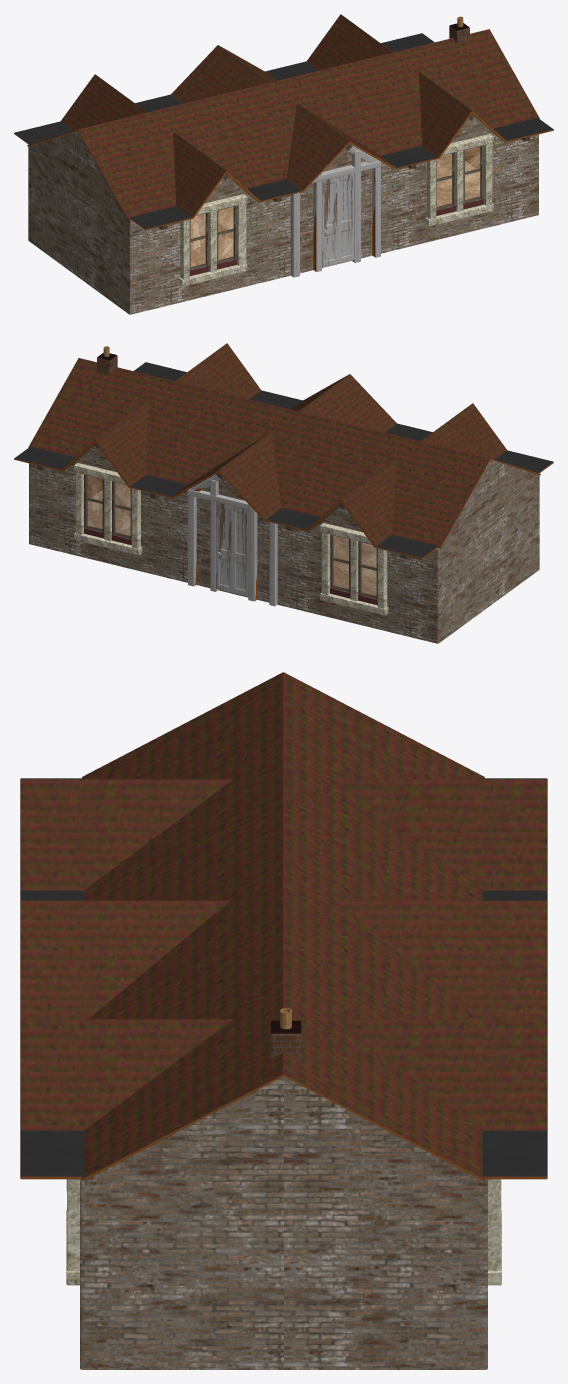
Rendered from abandoned_cottage.fbx.
3 views of the same model, one above another, from view 1: azimuth 30°, elevation 25°; view 2: azimuth 150°, elevation 25°; view 3: azimuth 270°, elevation 25° (orthographic). The views are drawn at different scales.
Parts seen in each view (by area): view 1: main_wall, main_roof, canopy_roof, polySurface8, polySurface1, polySurface6, polySurface4, polySurface7, polySurface17, polySurface29, polySurface21, polySurface27 (+7 smaller); view 2: main_wall, main_roof, canopy_roof, polySurface68, polySurface66, polySurface61, polySurface67, polySurface64, polySurface72, polySurface73, polySurface44, polySurface70 (+7 smaller); view 3: main_roof, canopy_roof, main_wall, polySurface47, polySurface29, pCube1.
Boxes of the visible parts, x1=… form: main_wall: x1=28, y1=118, x2=538, y2=314; main_roof: x1=27, y1=29, x2=539, y2=219; canopy_roof: x1=14, y1=14, x2=553, y2=229; polySurface8: x1=322, y1=173, x2=354, y2=267; polySurface1: x1=290, y1=192, x2=299, y2=277; polySurface6: x1=351, y1=150, x2=360, y2=262; polySurface4: x1=313, y1=173, x2=321, y2=271; polySurface7: x1=372, y1=166, x2=380, y2=257; polySurface17: x1=236, y1=203, x2=246, y2=265; polySurface29: x1=483, y1=143, x2=492, y2=205; polySurface21: x1=179, y1=264, x2=247, y2=286; polySurface27: x1=425, y1=203, x2=493, y2=226; main_wall: x1=29, y1=446, x2=539, y2=643; main_roof: x1=28, y1=358, x2=540, y2=548; canopy_roof: x1=14, y1=343, x2=553, y2=558; polySurface68: x1=216, y1=502, x2=248, y2=596; polySurface66: x1=248, y1=504, x2=257, y2=601; polySurface61: x1=188, y1=495, x2=196, y2=586; polySurface67: x1=269, y1=522, x2=277, y2=606; polySurface64: x1=210, y1=479, x2=218, y2=591; polySurface72: x1=377, y1=548, x2=387, y2=608; polySurface73: x1=321, y1=532, x2=330, y2=594; polySurface44: x1=74, y1=532, x2=142, y2=555; polySurface70: x1=320, y1=593, x2=388, y2=615; main_roof: x1=82, y1=672, x2=484, y2=1180; canopy_roof: x1=20, y1=778, x2=547, y2=1179; main_wall: x1=80, y1=1076, x2=487, y2=1369; polySurface47: x1=488, y1=1179, x2=501, y2=1270; polySurface29: x1=67, y1=1179, x2=79, y2=1270; pCube1: x1=270, y1=1020, x2=302, y2=1060.
Bounding box in the file's own units: 1009 × 389 × 559.
